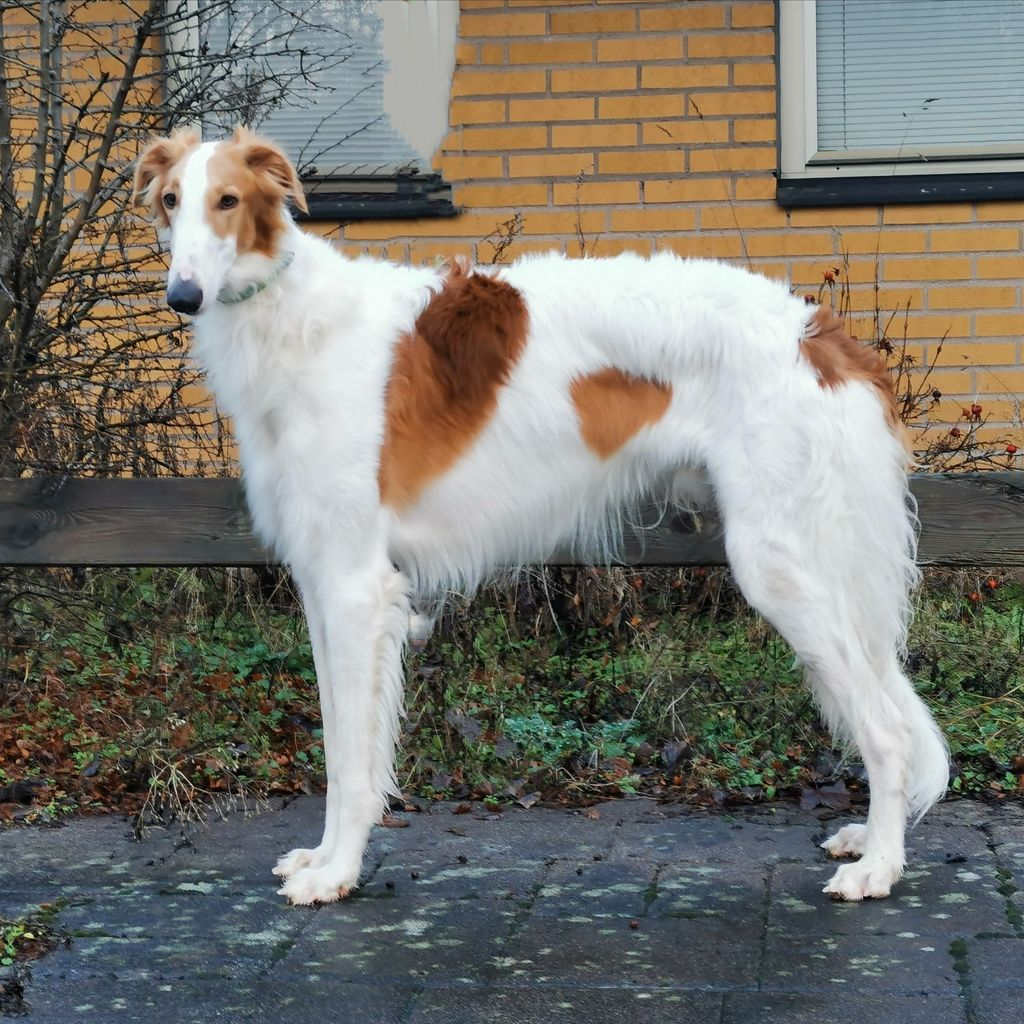borzoi: (122, 131, 976, 911)
